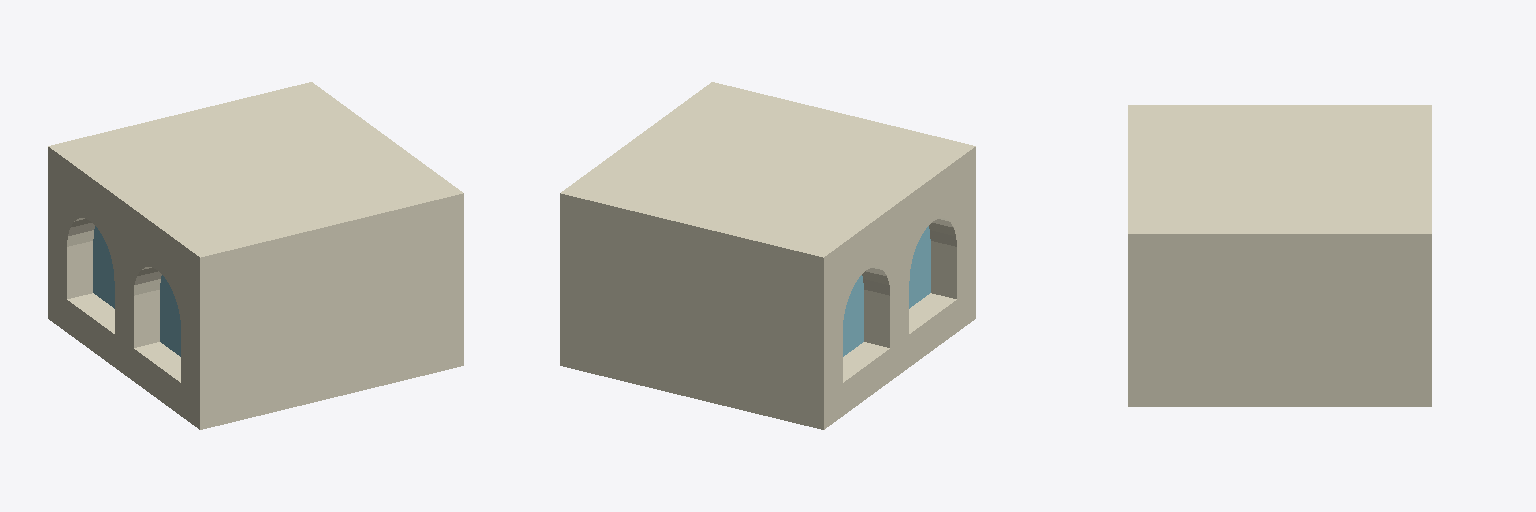
The model's file is floor2.obj.
3 views of the same model, side by side, from view 1: azimuth 30°, elevation 25°; view 2: azimuth 150°, elevation 25°; view 3: azimuth 270°, elevation 25° (orthographic).
Parts seen in each view (by area): view 1: floor2; view 2: floor2; view 3: floor2.
Part boxes in pixels (x1,y1,x2,y2): floor2: (48, 82, 463, 429); floor2: (560, 82, 975, 429); floor2: (1128, 105, 1431, 406).
Bounding box in the file's own units: 1 × 0.625 × 1.